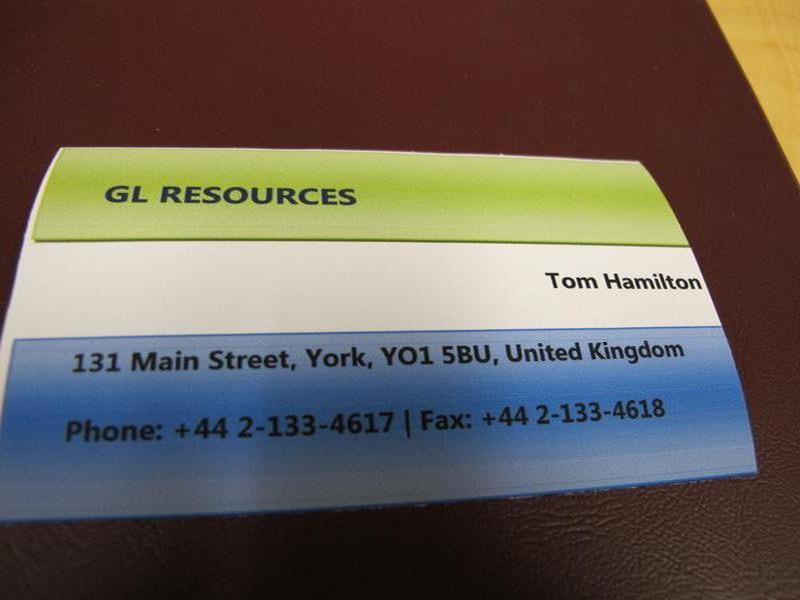card: (4, 139, 764, 520)
